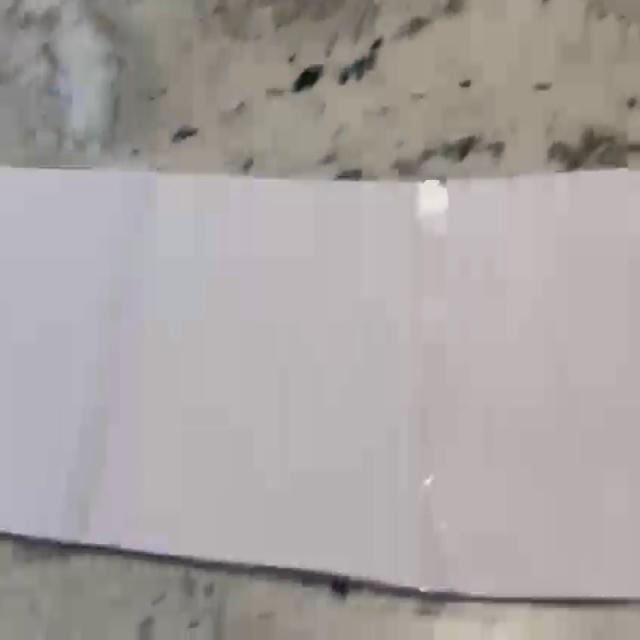road: (0, 167, 640, 600)
